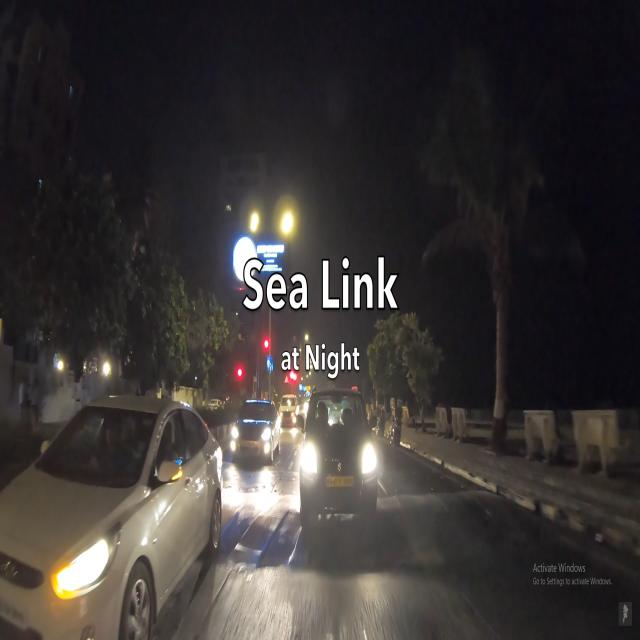headlights: (294, 430, 382, 489), (226, 418, 278, 458)
